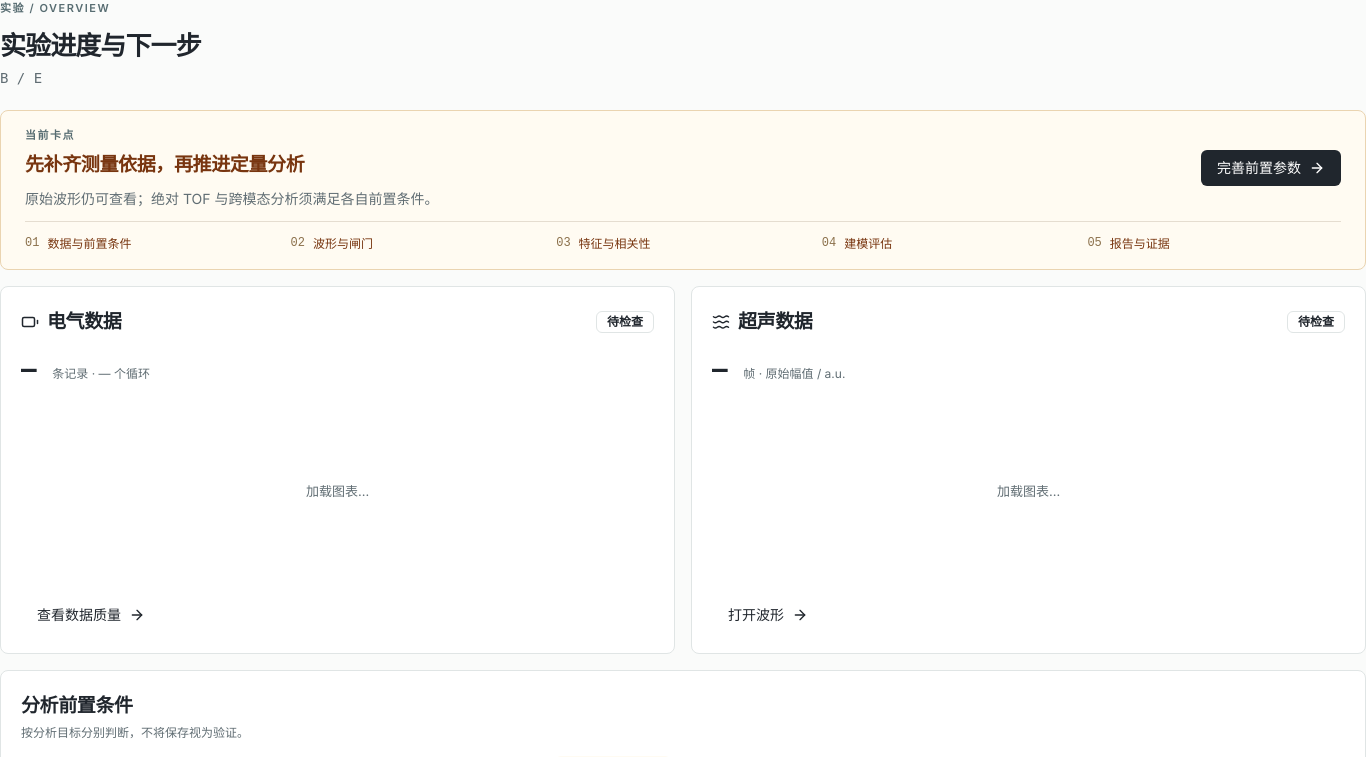
Scenario: 概览交互闭环 › 前置条件在原地打开，重新检查后只接受 API 验证结果
Click the button "完善前置参数".
click(1271, 168)  # box x1=1201 y1=150 x2=1341 y2=186
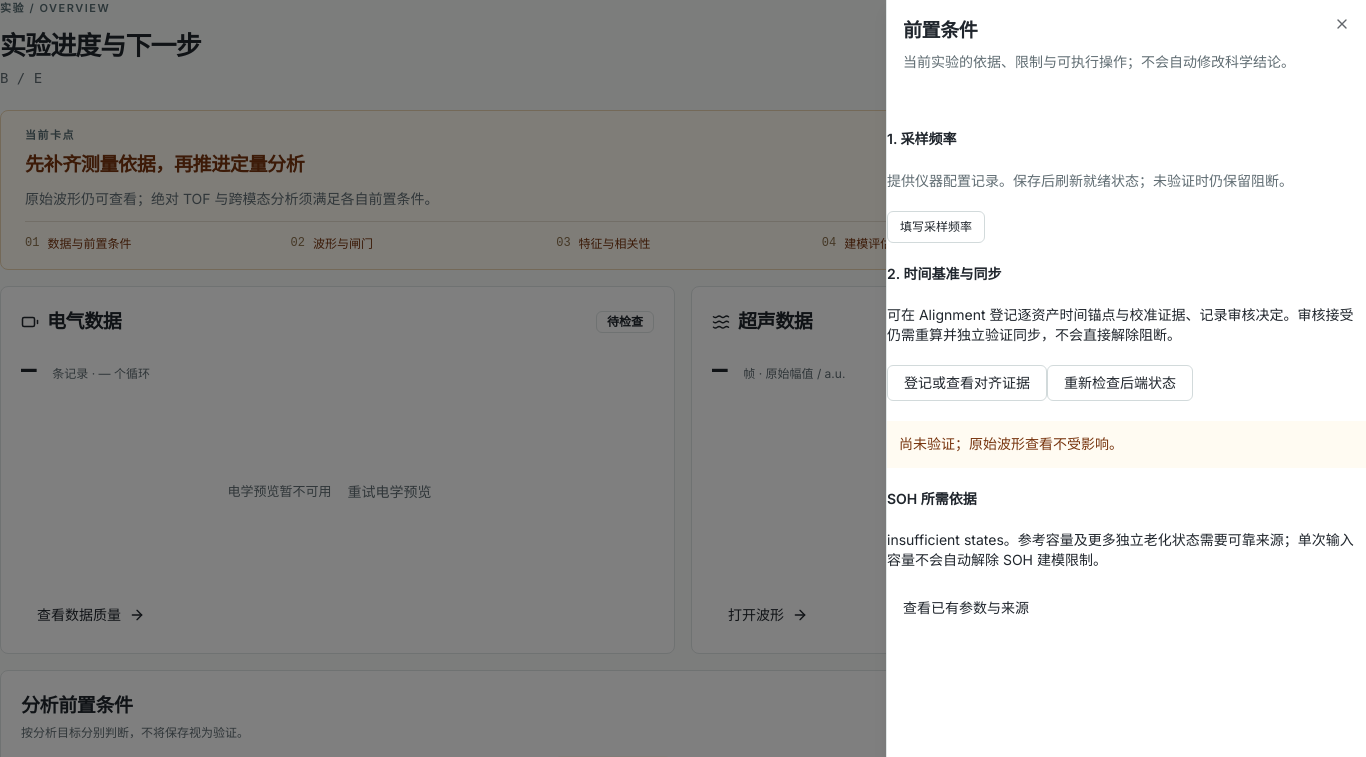
Expected: the text "尚未验证；原始波形查看不受影响。" is shown, x1=887 y1=421 x2=1365 y2=468
Click the button "重新检查后端状态".
click(1120, 383)  # box x1=1047 y1=365 x2=1193 y2=401
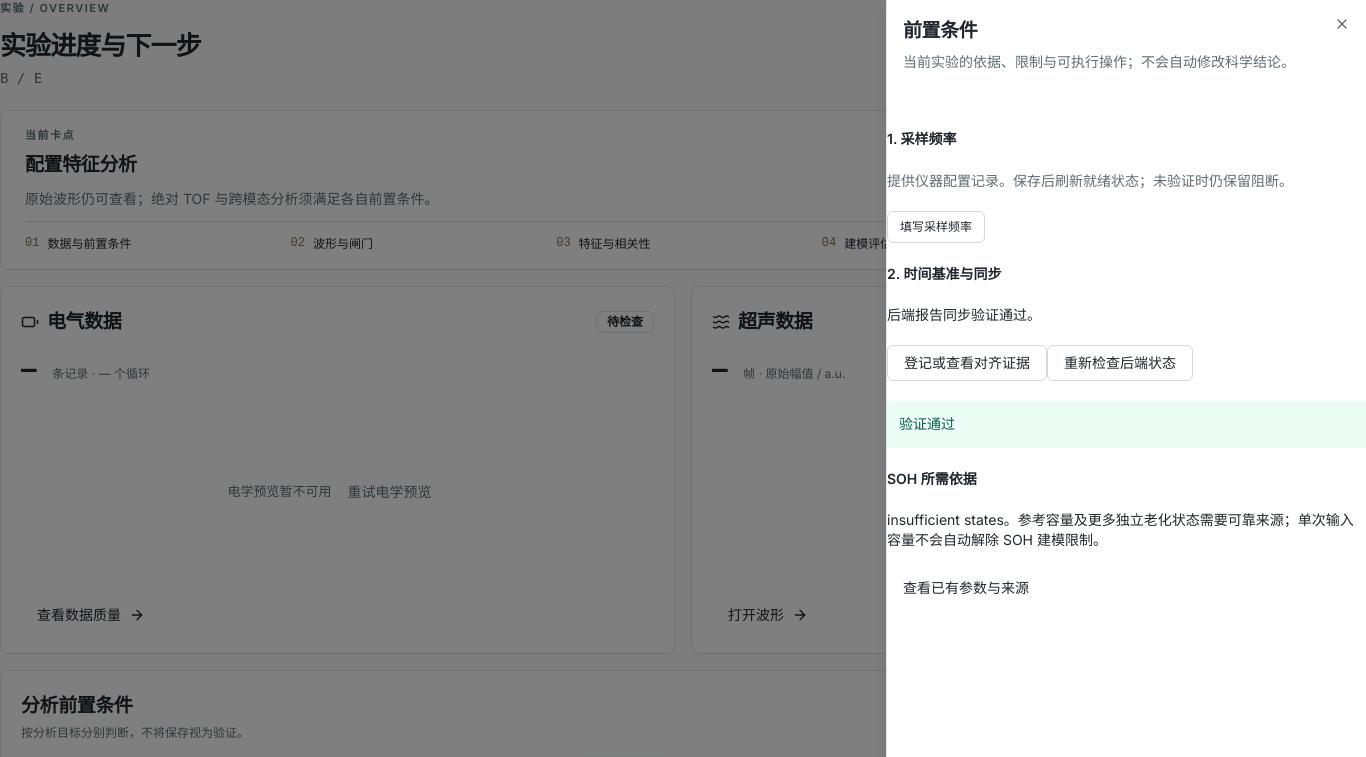
Expected: the text "验证通过" is shown, x1=887 y1=401 x2=1365 y2=448
